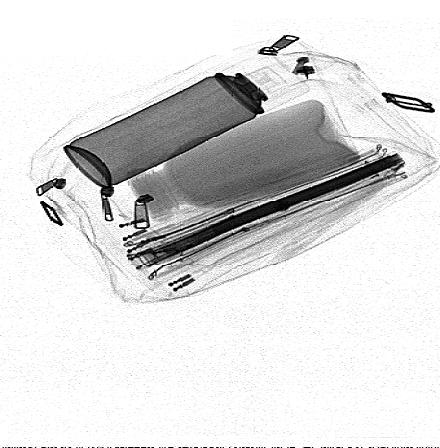Sprayer: (64, 52, 309, 188)
